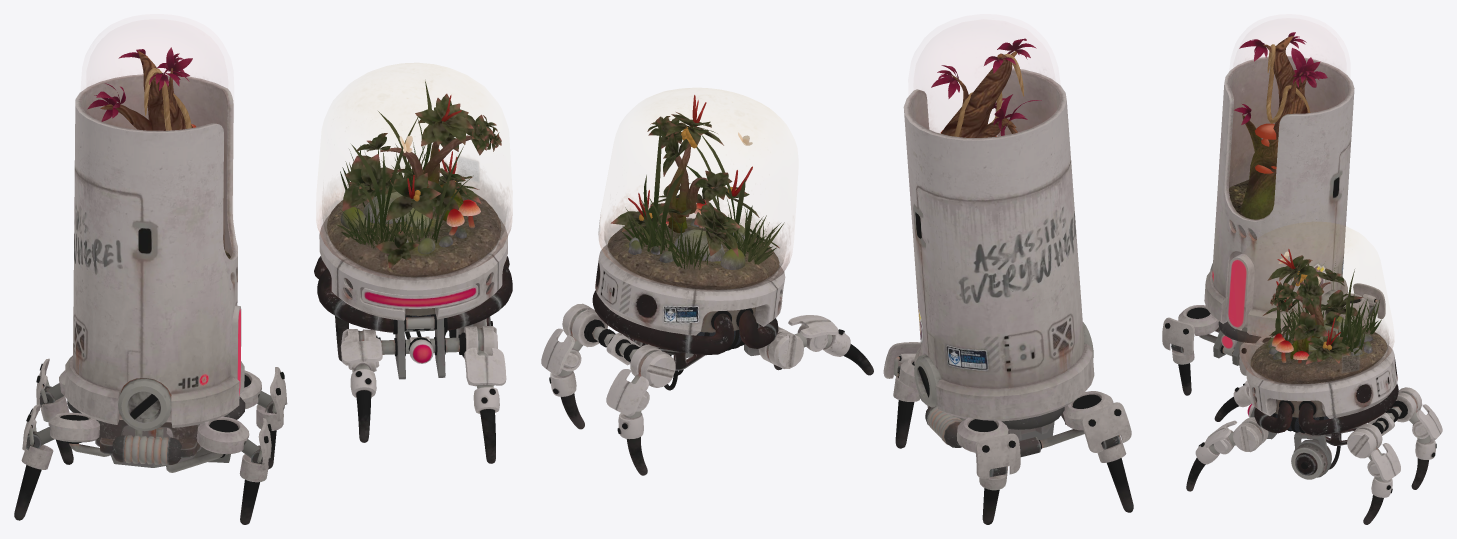
File: terrarium-robots.glb
3 renders of one model, left to right at view 1: azimuth 30°, elevation 25°; view 2: azimuth 150°, elevation 25°; view 3: azimuth 270°, elevation 25°, orthographic. The views are drawn at different scales.
Parts seen in each view (by area): view 1: defaultMaterial (×3); view 2: defaultMaterial (×3); view 3: defaultMaterial (×3).
Boxes of the visible parts, <box> form: defaultMaterial (×3): <box>14,47,512,524</box>; defaultMaterial (×3): <box>541,38,1133,524</box>; defaultMaterial (×3): <box>1162,32,1442,524</box>.
Size of the model in its own units: 28.97 by 23.9 by 16.69.
3 materials, 3 textured.
